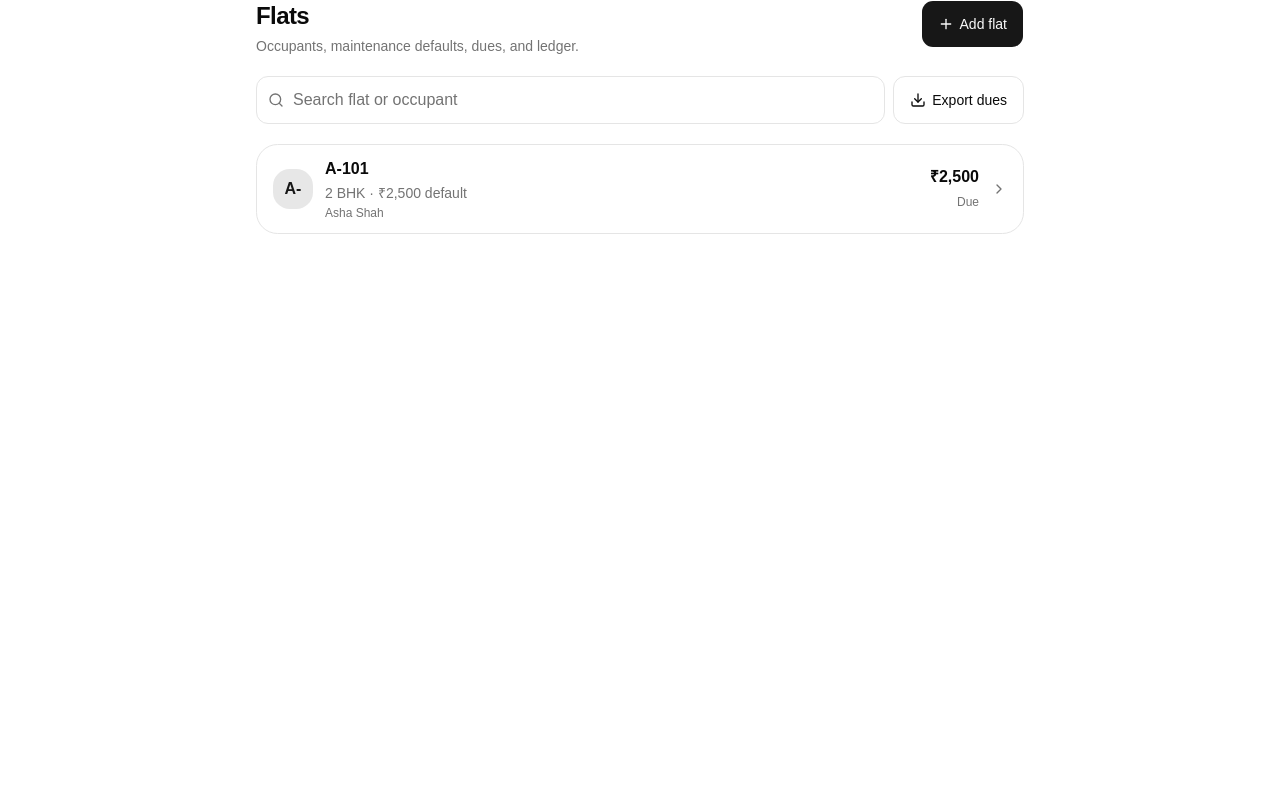
Test: FlatsPage — searchable setup and contextual detail › creates a flat from a focused sheet and shows it in the list
Click the button "Add flat": (972, 24) [920,0,1024,48]
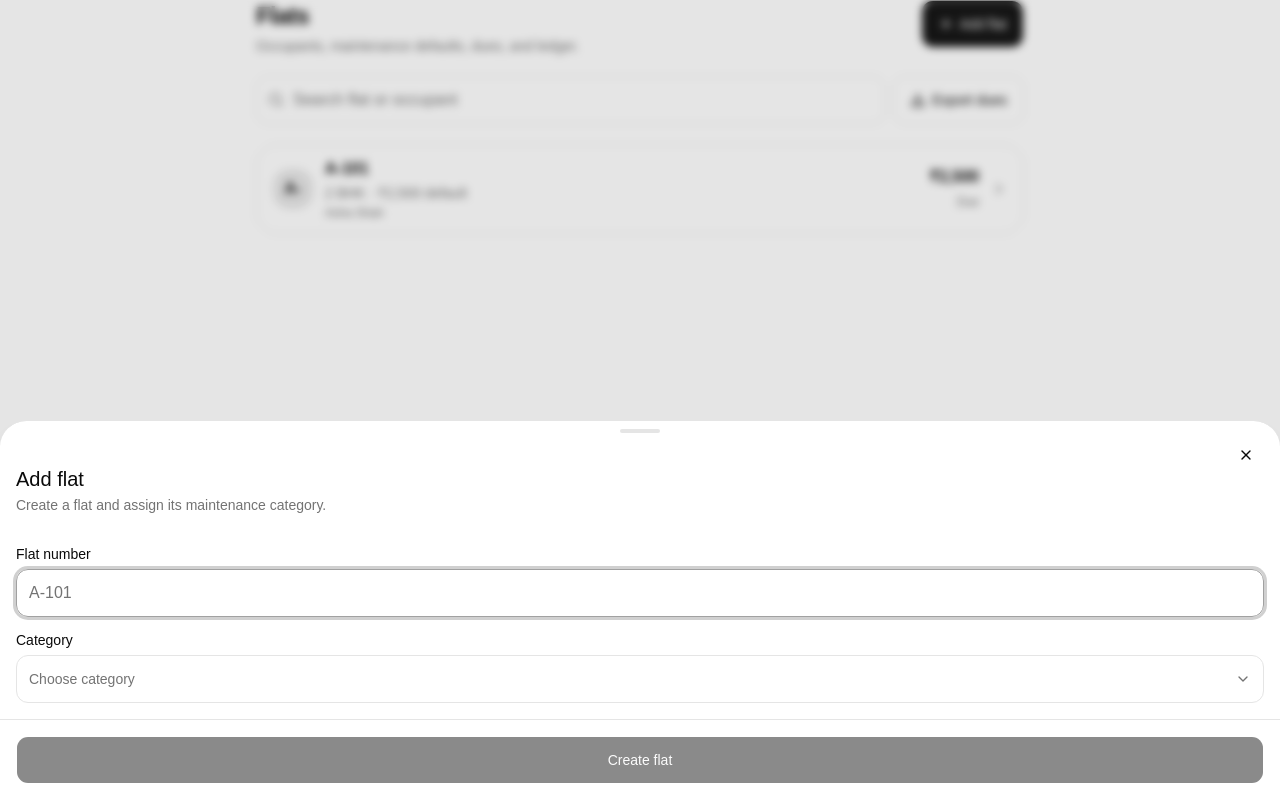
In the field labelled "Flat number": (640, 593) [16,569,1264,617], type "C-303"
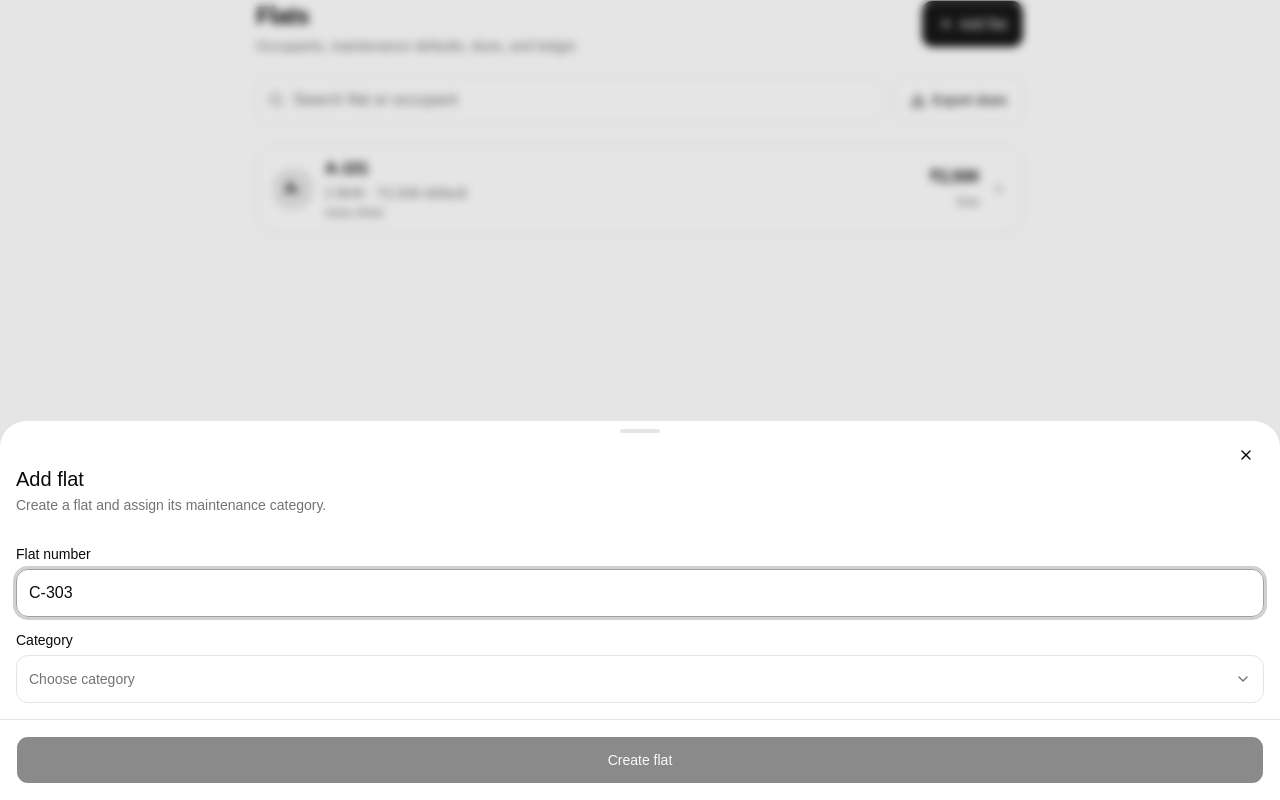
Click the dropdown labelled "category": (82, 679) [16,655,1264,703]
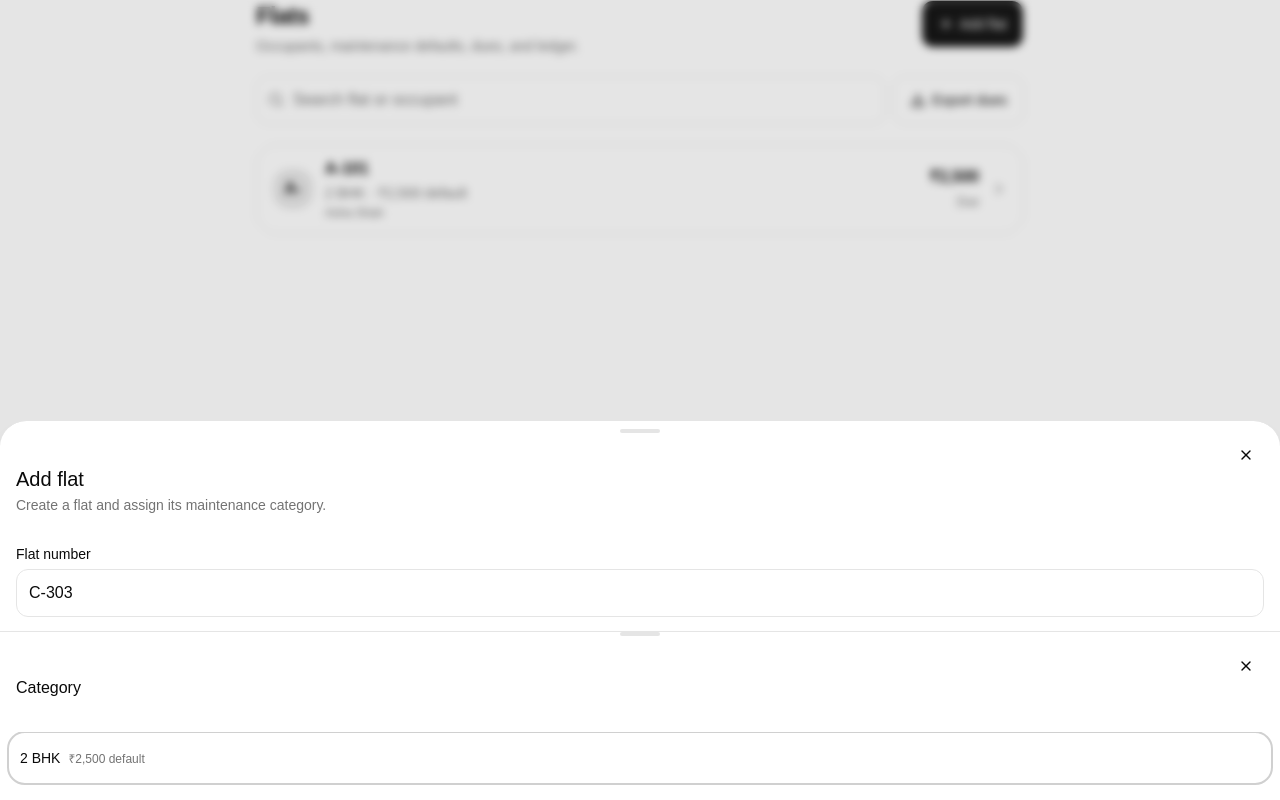
Click the option "2 BHK₹2,500 default": (40, 758) [8,732,1272,784]
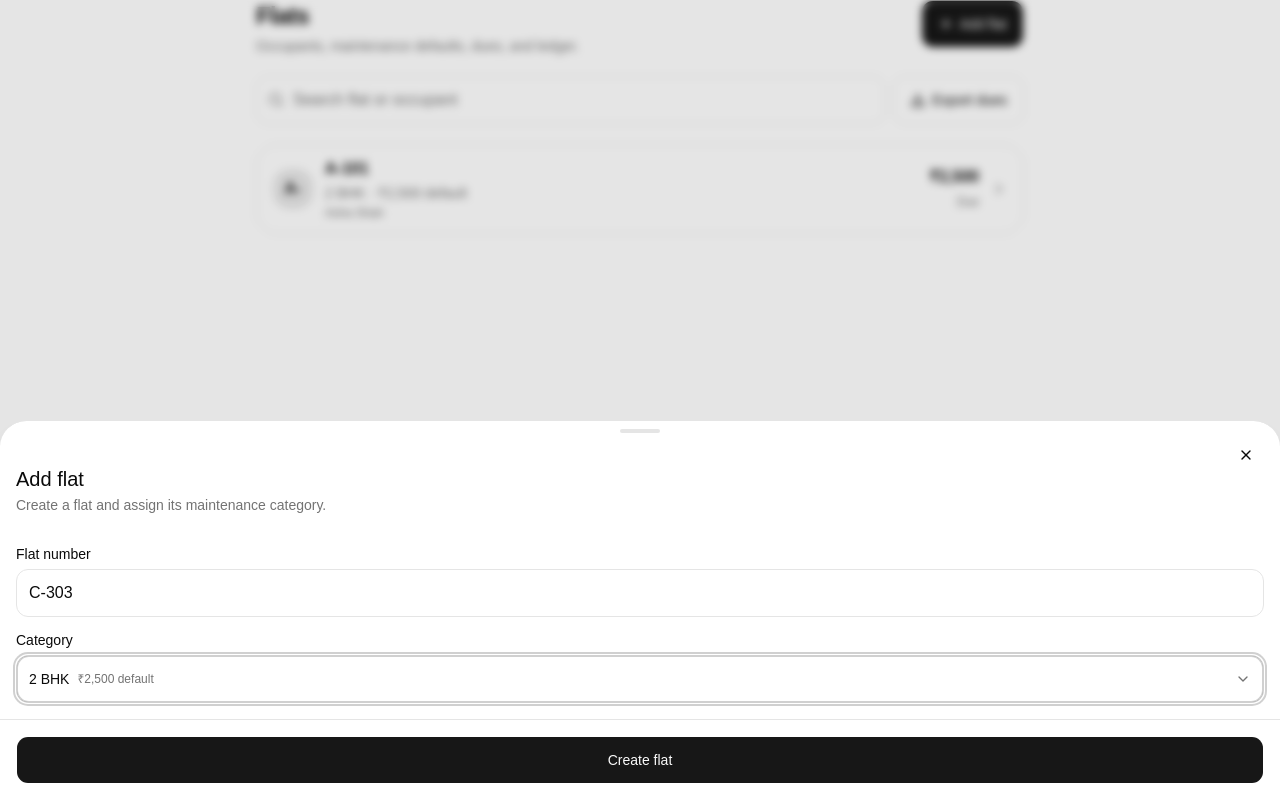
Click the button "Create flat": (640, 760) [16,736,1264,784]
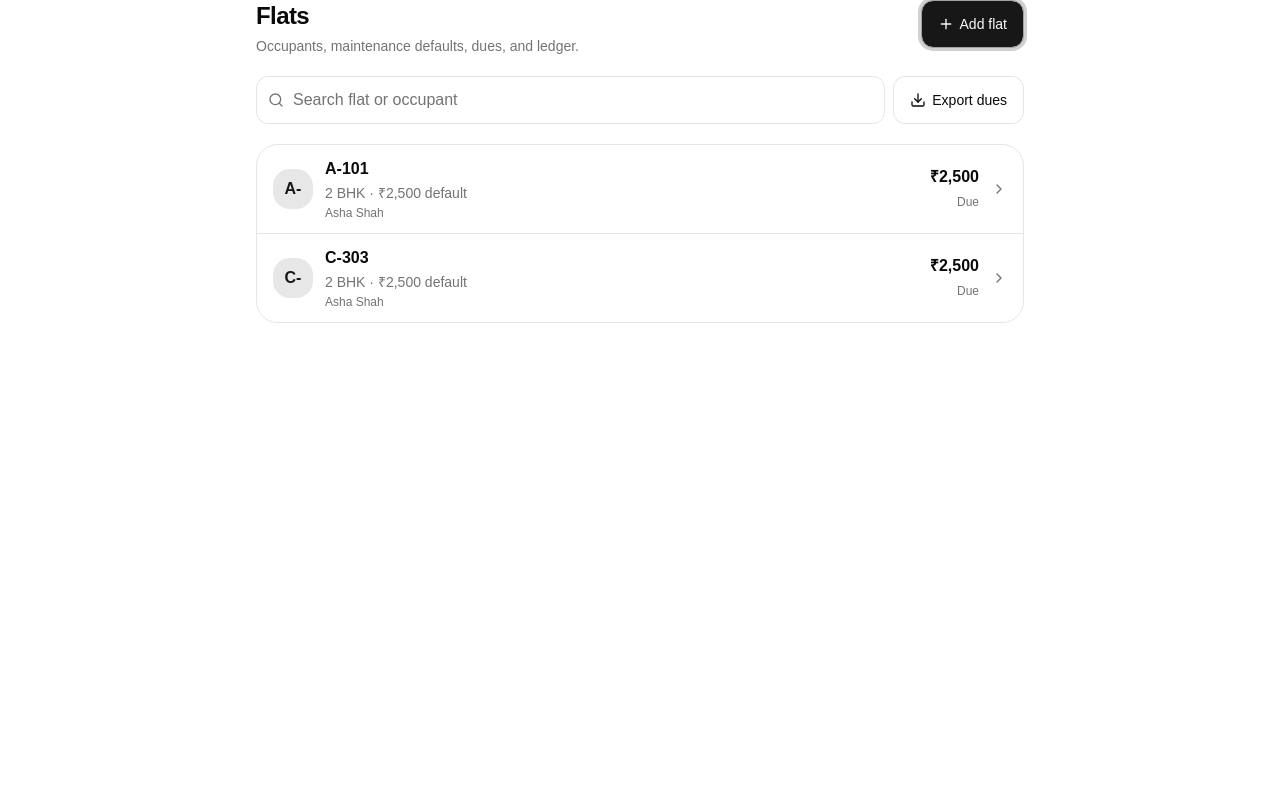
Now the button "C- C-303 2 BHK · ₹2,500 default Asha Shah ₹2,500 Due" is shown, box [257,233,1023,322]
